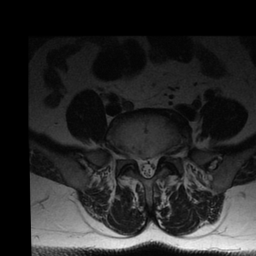CCS_normal: (144, 150, 151, 185)
LFS_stenosis: (158, 145, 165, 165)
LLS_normal: (151, 150, 157, 178)
RFS_stenosis: (129, 145, 137, 167)
RLS_normal: (137, 150, 144, 179)
